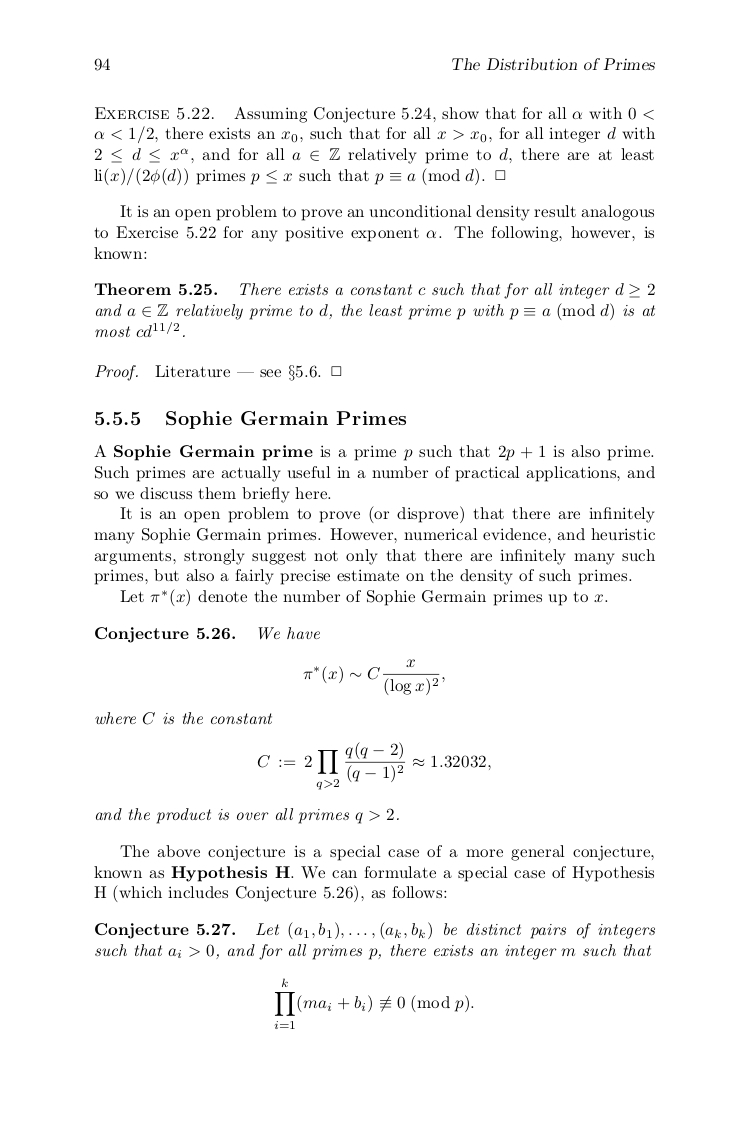formula: (257, 741, 490, 790), (274, 978, 473, 1028), (303, 658, 444, 696)
